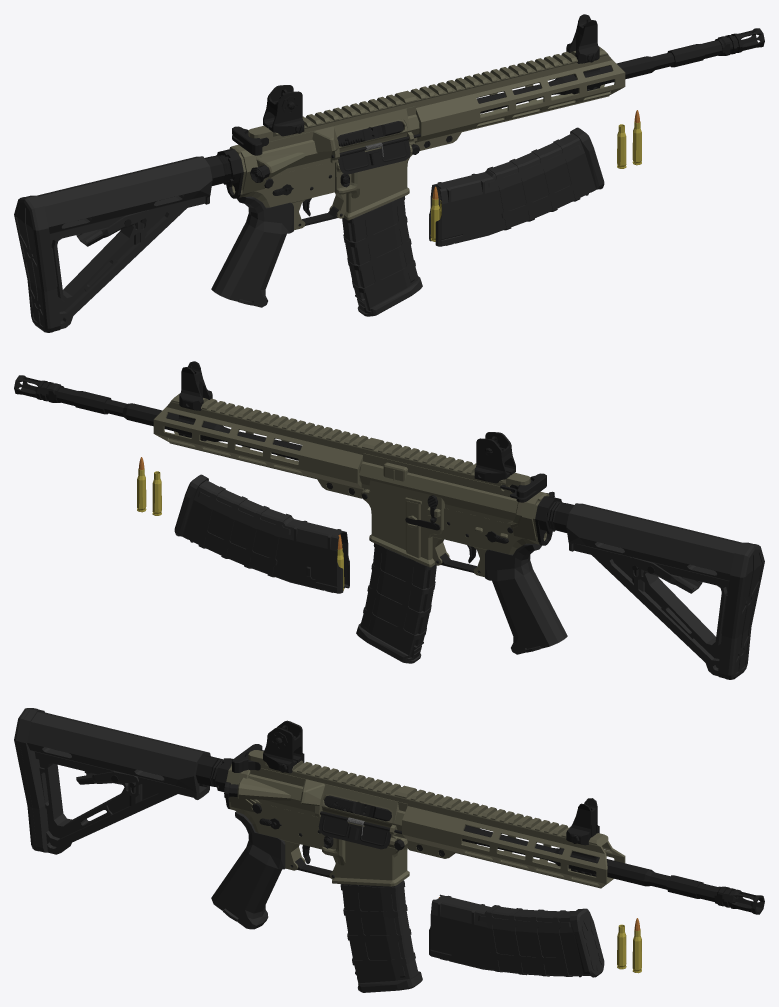
The model's file is uar15.glb.
The picture shows the model from 3 angles, top to bottom: view 1: azimuth 30°, elevation 25°; view 2: azimuth 150°, elevation 25°; view 3: azimuth 330°, elevation 25°; orthographic projection.
Visible parts, largest first — view 1: uar15s1 stock_17, 55645 ar15 30rnd mag (magpul)_11, uar15s1 handguard_15, uar15s1 lower receiver_1, uar15s1 upper receiver_0, 55645 ar15 30rnd mag empty (magpul)_12, uar15s1 pistol grip_16, uar15s1 14.5 barrel_8, uar15s1 dust covet_18, ddm4 rear iron sight_14, ddm4 front iron sight_13, uar15s1 flash guard_19 (+2 smaller); view 2: uar15s1 stock_17, 55645 ar15 30rnd mag (magpul)_11, uar15s1 handguard_15, uar15s1 lower receiver_1, uar15s1 upper receiver_0, 55645 ar15 30rnd mag empty (magpul)_12, uar15s1 pistol grip_16, uar15s1 14.5 barrel_8, ddm4 rear iron sight_14, ddm4 front iron sight_13, uar15s1 flash guard_19, uar15s1 charging handle_4; view 3: uar15s1 stock_17, 55645 ar15 30rnd mag (magpul)_11, uar15s1 handguard_15, uar15s1 lower receiver_1, uar15s1 upper receiver_0, 55645 ar15 30rnd mag empty (magpul)_12, uar15s1 pistol grip_16, uar15s1 14.5 barrel_8, uar15s1 dust covet_18, ddm4 rear iron sight_14, ddm4 front iron sight_13, uar15s1 flash guard_19 (+2 smaller).
Boxes of the visible parts, bbox=[...] form: uar15s1 stock_17: bbox=[14, 156, 212, 332]; 55645 ar15 30rnd mag (magpul)_11: bbox=[429, 127, 604, 246]; uar15s1 handguard_15: bbox=[410, 46, 625, 150]; uar15s1 lower receiver_1: bbox=[78, 142, 419, 230]; uar15s1 upper receiver_0: bbox=[248, 90, 419, 182]; 55645 ar15 30rnd mag empty (magpul)_12: bbox=[342, 196, 422, 316]; uar15s1 pistol grip_16: bbox=[211, 196, 293, 307]; uar15s1 14.5 barrel_8: bbox=[403, 40, 722, 126]; uar15s1 dust covet_18: bbox=[331, 134, 420, 174]; ddm4 rear iron sight_14: bbox=[263, 85, 304, 136]; ddm4 front iron sight_13: bbox=[566, 14, 599, 63]; uar15s1 flash guard_19: bbox=[715, 28, 764, 55]; uar15s1 stock_17: bbox=[566, 503, 764, 679]; 55645 ar15 30rnd mag (magpul)_11: bbox=[174, 474, 349, 593]; uar15s1 handguard_15: bbox=[153, 393, 368, 498]; uar15s1 lower receiver_1: bbox=[361, 489, 700, 577]; uar15s1 upper receiver_0: bbox=[359, 437, 554, 524]; 55645 ar15 30rnd mag empty (magpul)_12: bbox=[356, 543, 436, 663]; uar15s1 pistol grip_16: bbox=[485, 543, 567, 654]; uar15s1 14.5 barrel_8: bbox=[56, 387, 301, 460]; ddm4 rear iron sight_14: bbox=[474, 432, 515, 483]; ddm4 front iron sight_13: bbox=[179, 361, 212, 410]; uar15s1 flash guard_19: bbox=[14, 375, 63, 402]; uar15s1 charging handle_4: bbox=[500, 473, 546, 502]; uar15s1 stock_17: bbox=[14, 708, 210, 854]; 55645 ar15 30rnd mag (magpul)_11: bbox=[429, 894, 604, 977]; uar15s1 handguard_15: bbox=[402, 789, 625, 888]; uar15s1 lower receiver_1: bbox=[152, 755, 409, 886]; uar15s1 upper receiver_0: bbox=[224, 750, 416, 845]; 55645 ar15 30rnd mag empty (magpul)_12: bbox=[340, 880, 422, 992]; uar15s1 pistol grip_16: bbox=[211, 811, 285, 929]; uar15s1 14.5 barrel_8: bbox=[462, 825, 736, 902]; uar15s1 dust covet_18: bbox=[314, 810, 401, 849]; ddm4 rear iron sight_14: bbox=[263, 720, 304, 773]; ddm4 front iron sight_13: bbox=[566, 798, 599, 845]; uar15s1 flash guard_19: bbox=[714, 886, 764, 914].
Size of the model in its own units: 8.29 by 2.63 by 0.6283.
